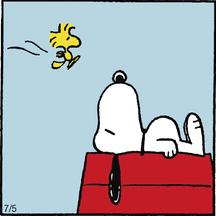snoopy: (92, 68, 206, 206)
